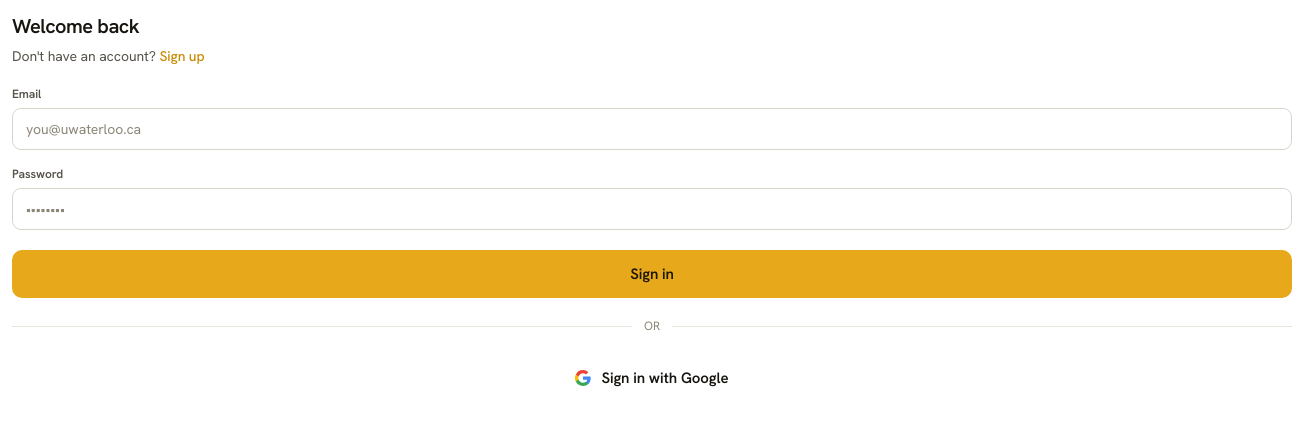
Test: LoginForm — email-only auth (username removed) › rejects a non-email identifier without submitting
Type "goose27" into the field labelled "Email" at (652, 129), box top-left (12, 108), bottom-right (1292, 150)
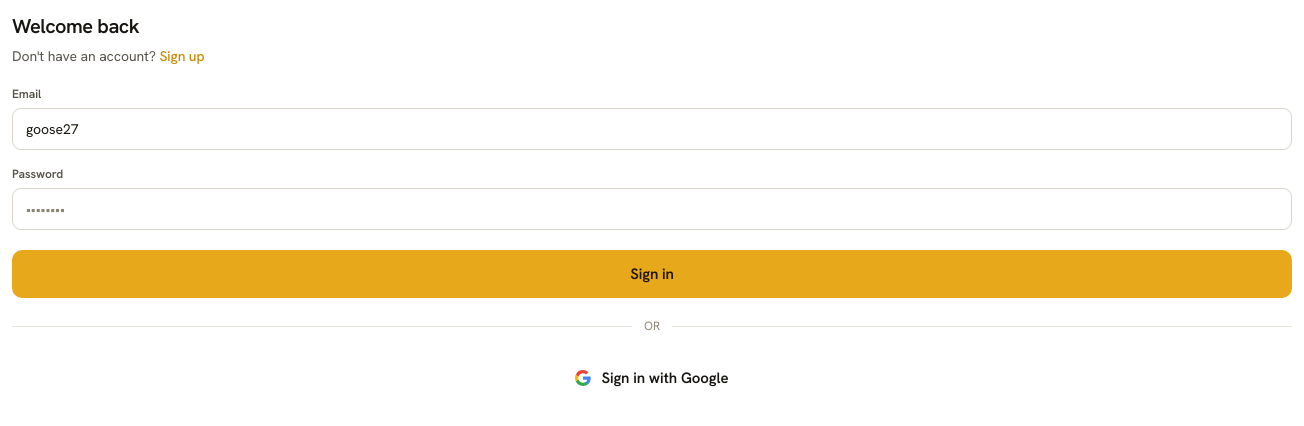
Type "hunter22" into the password field labelled "Password" at (652, 209), box top-left (12, 188), bottom-right (1292, 230)
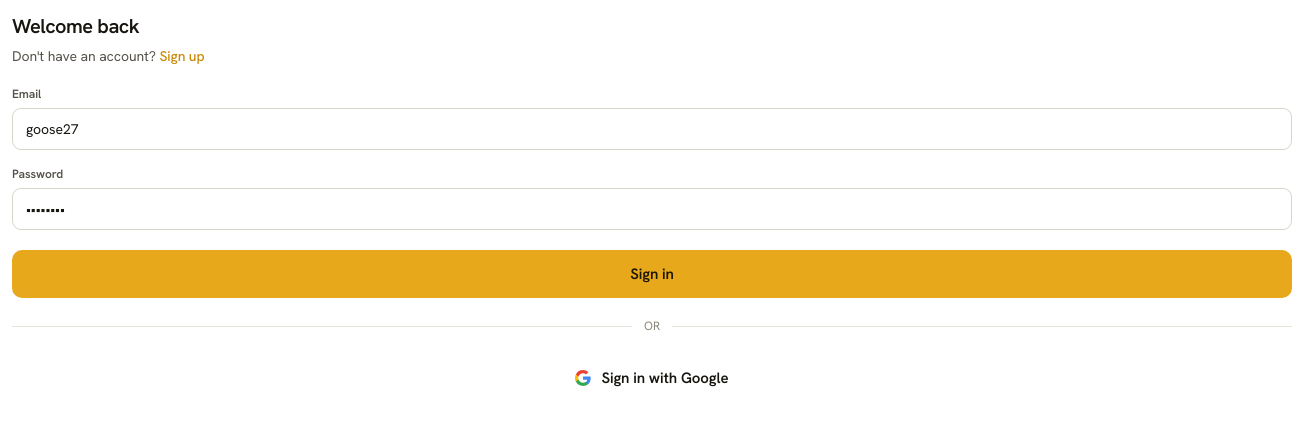
Submit the form "Sign in", box top-left (12, 86), bottom-right (1292, 298)
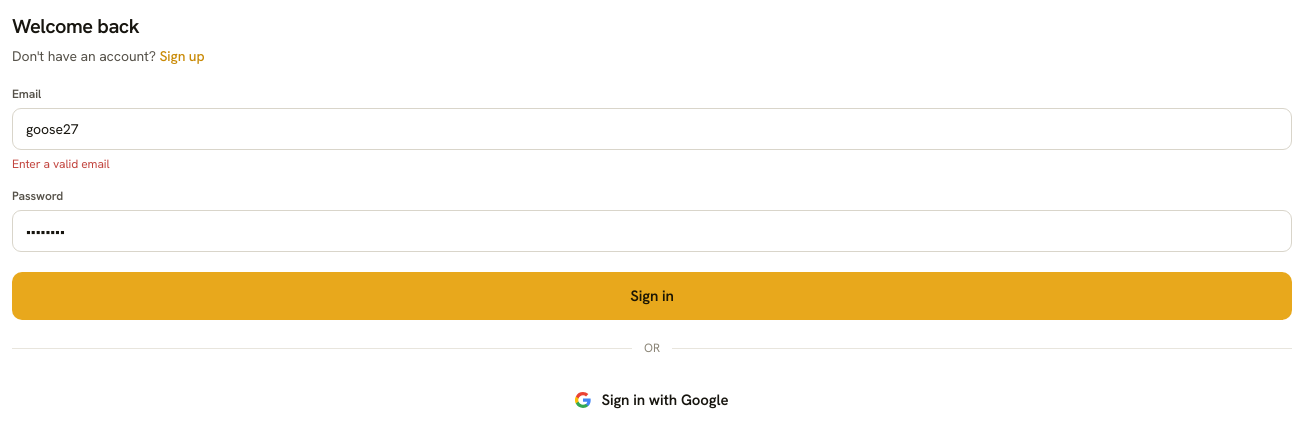
Check: the text "Enter a valid email" is shown, box top-left (12, 156), bottom-right (110, 172)
